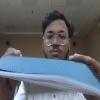notebook: (0, 55, 99, 99)
